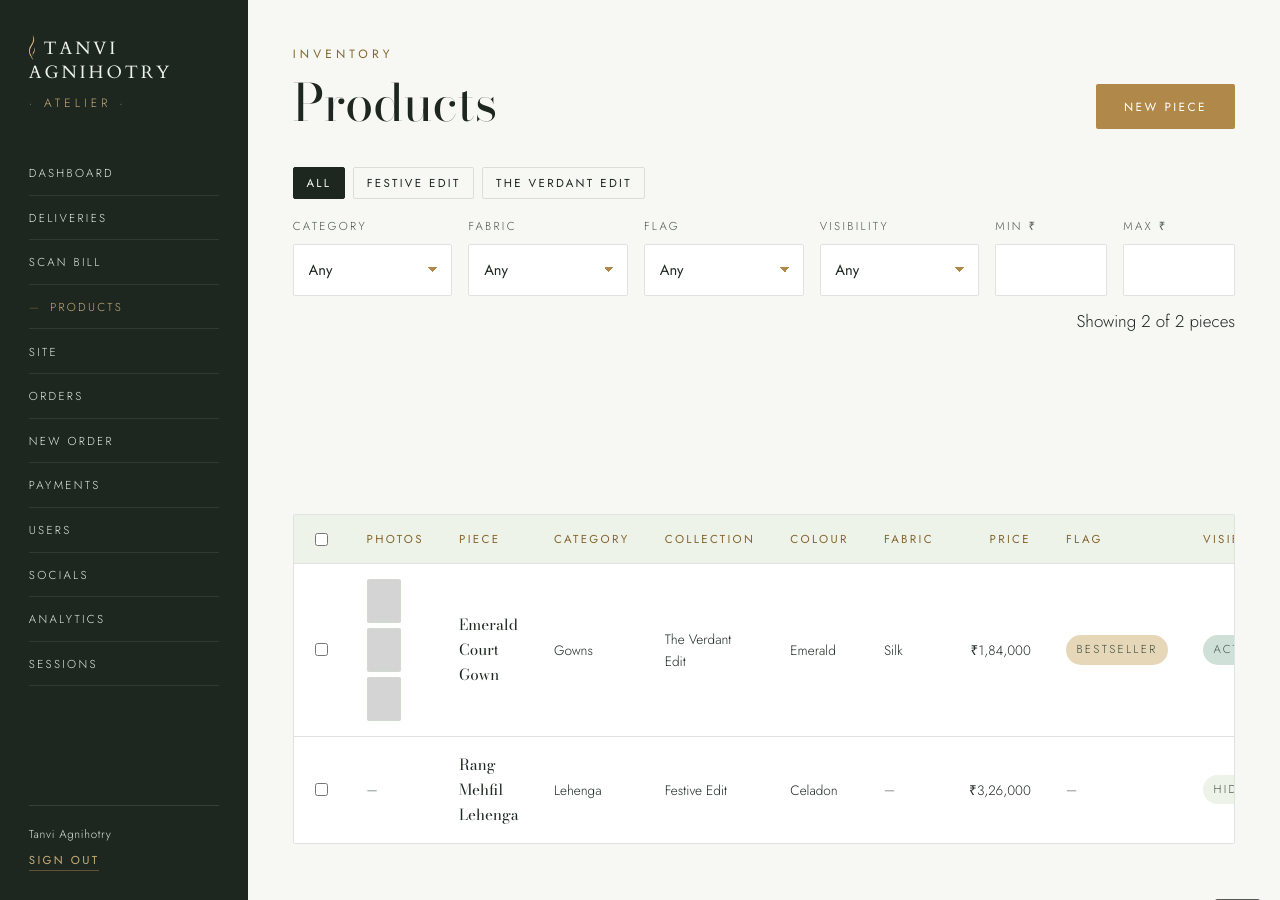
Scenario: Products › selects pieces and bulk-deletes them, reporting archive fallbacks
Expected: the text "Emerald Court Gown" is shown, [459,613,518,686]
Note: Selecting rows reveals the bulk action bar.
What coordinates should you click on to do the following:
click the checkbox named "Select all pieces"
I would click on:
 (322, 539)
Its box is [315,532,328,546].
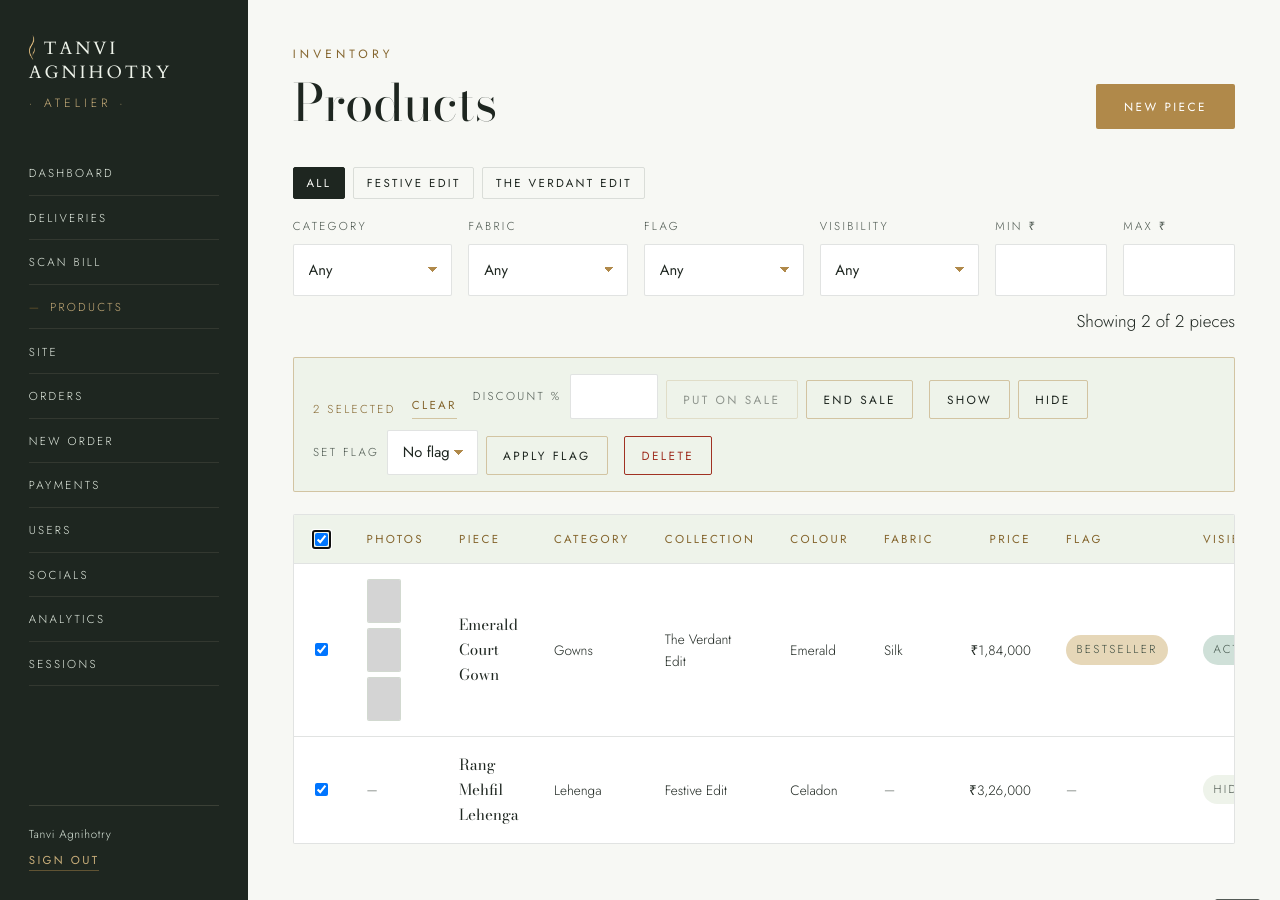
Expected: the text "2 selected" is shown, [313,400,396,419]
What coordinates should you click on to do the following:
click the button "Delete"
I would click on:
 (668, 455)
Its box is [624,436,712,475].
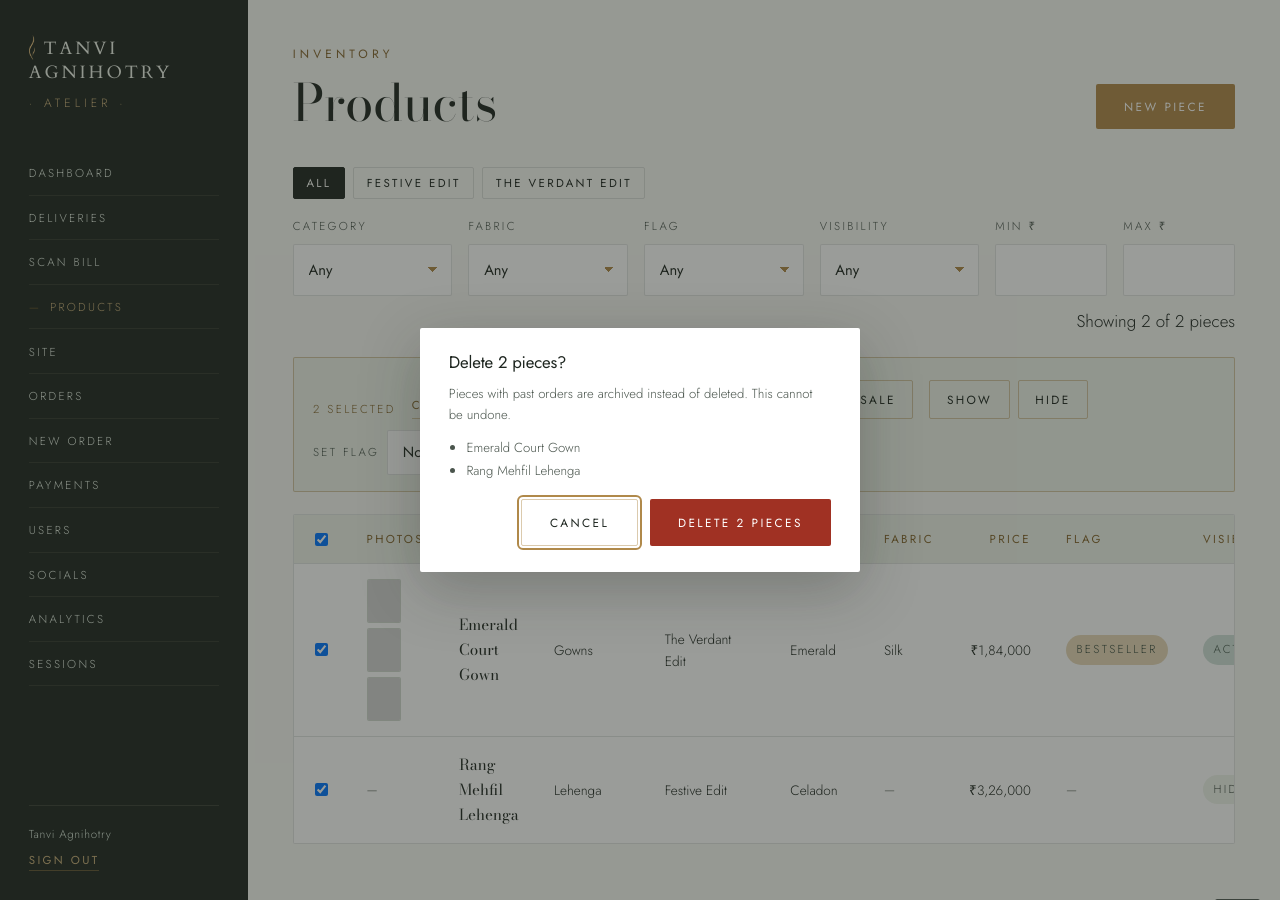
Expected: the list item "Emerald Court Gown" is shown, [466,438,580,457]
Expected: the list item "Rang Mehfil Lehenga" is shown, [466,461,580,480]
What coordinates should you click on to do the following:
click the button "Delete 2 pieces"
I would click on:
 (740, 522)
Its box is [650,499,831,546].
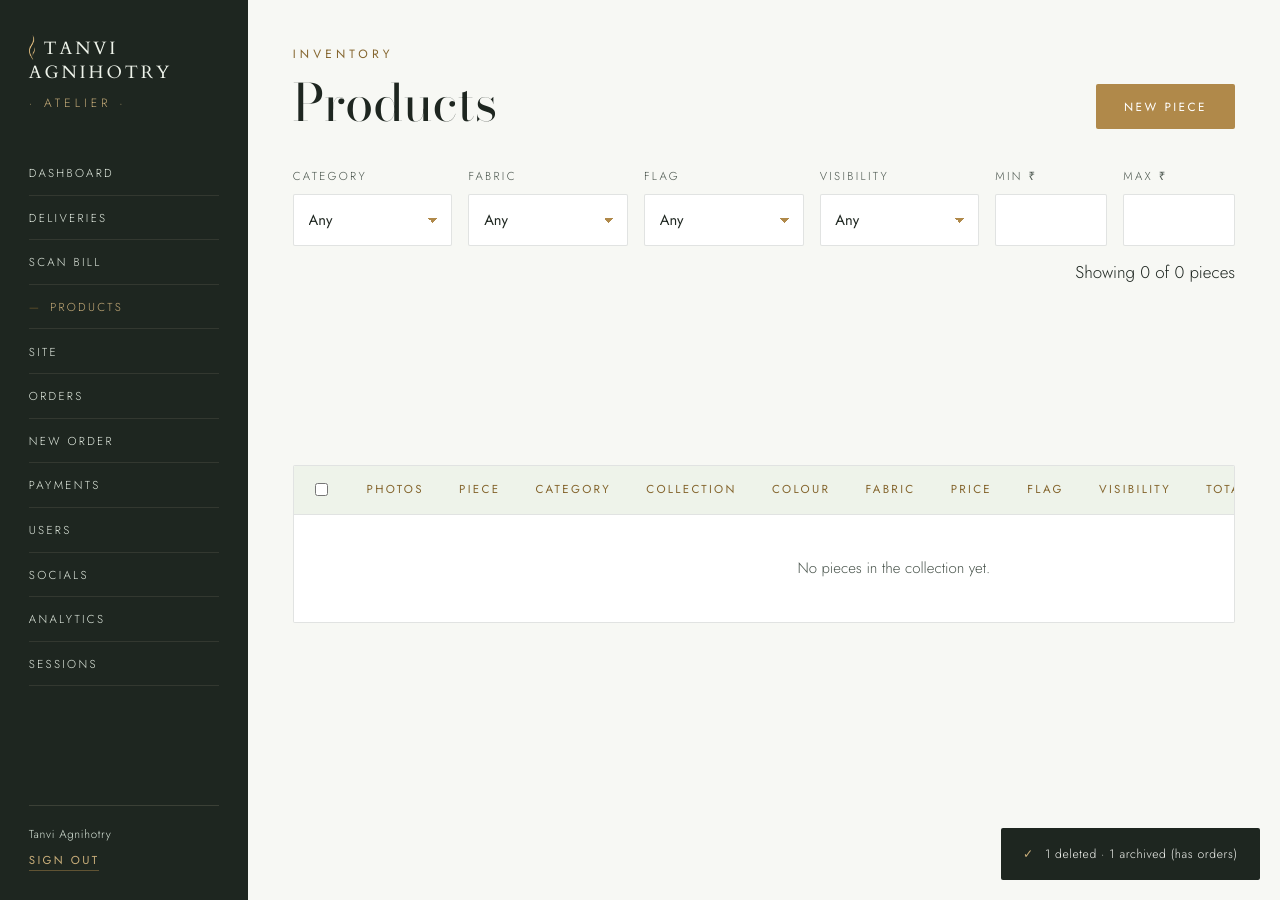
Expected: the text "1 deleted · 1 archived (has orders)" is shown, [1045,844,1238,864]
Expected: the list item "Emerald Court Gown" is gone
Expected: the list item "Rang Mehfil Lehenga" is gone
